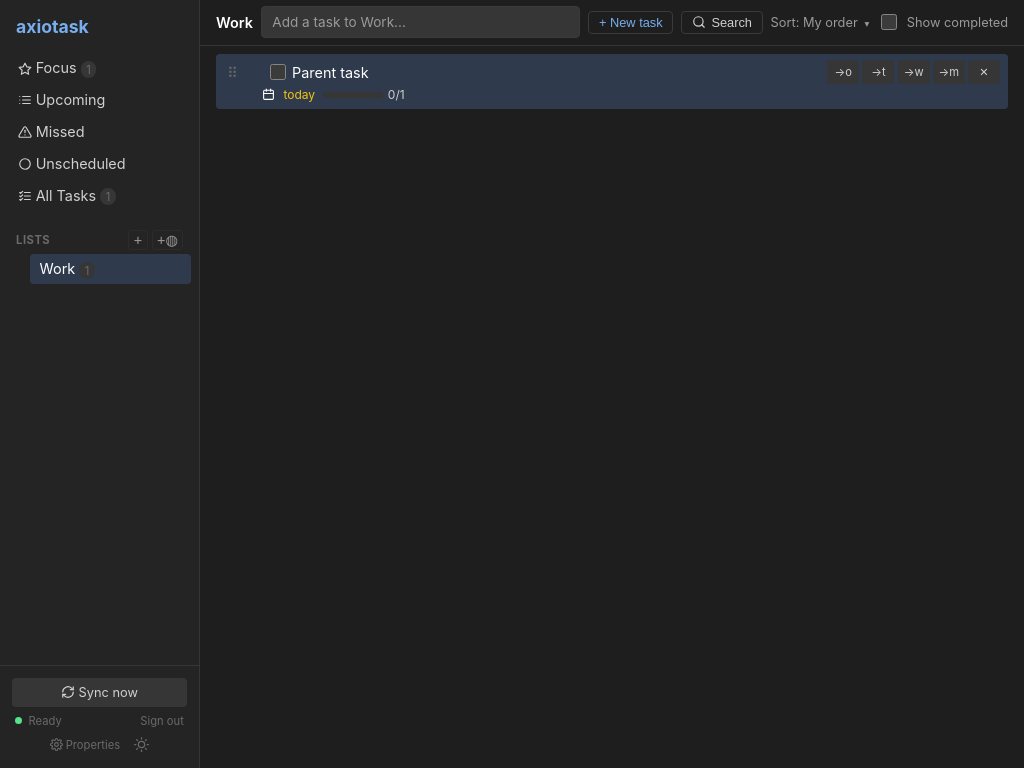
Scenario: GH#11: Complete/uncomplete with undo › Undo toast (10s) › undo of a mid-level subtask completion reopens it and its cascaded children
Click the text "Parent task" at (330, 72), box [292,64,369,81]
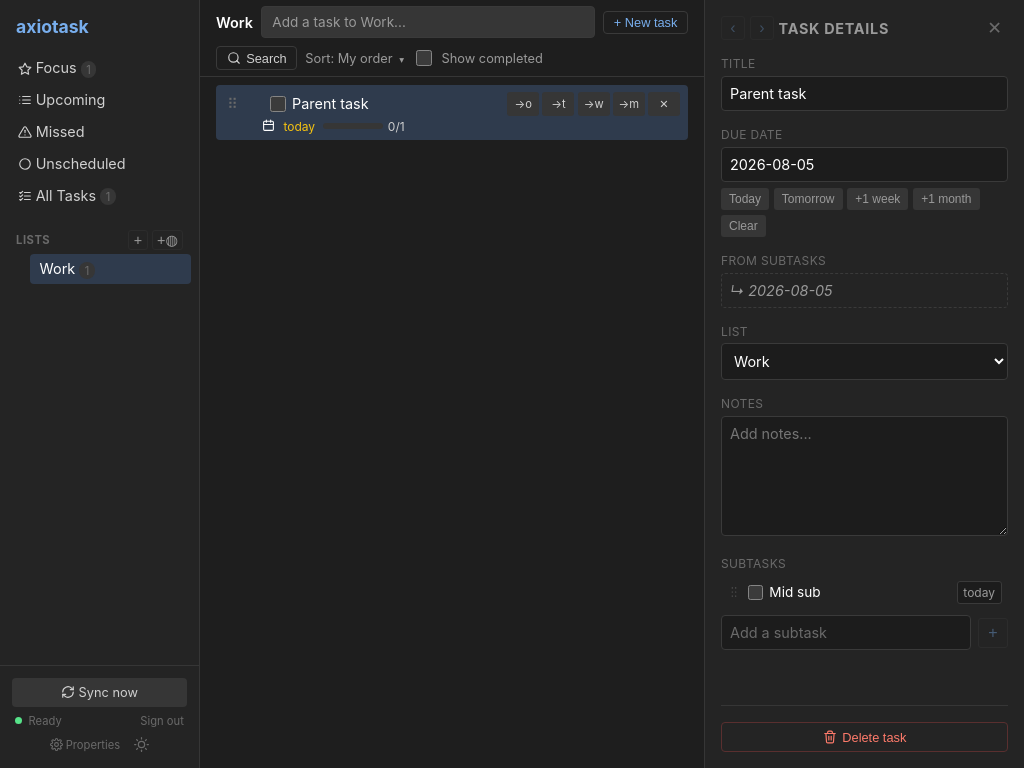
Expected: the text "Subtasks" is shown, [721,556,786,571]
Click the checkbox named "Mark Mid sub complete" at (755, 592), box [748,585,763,600]
Wait 750 ms
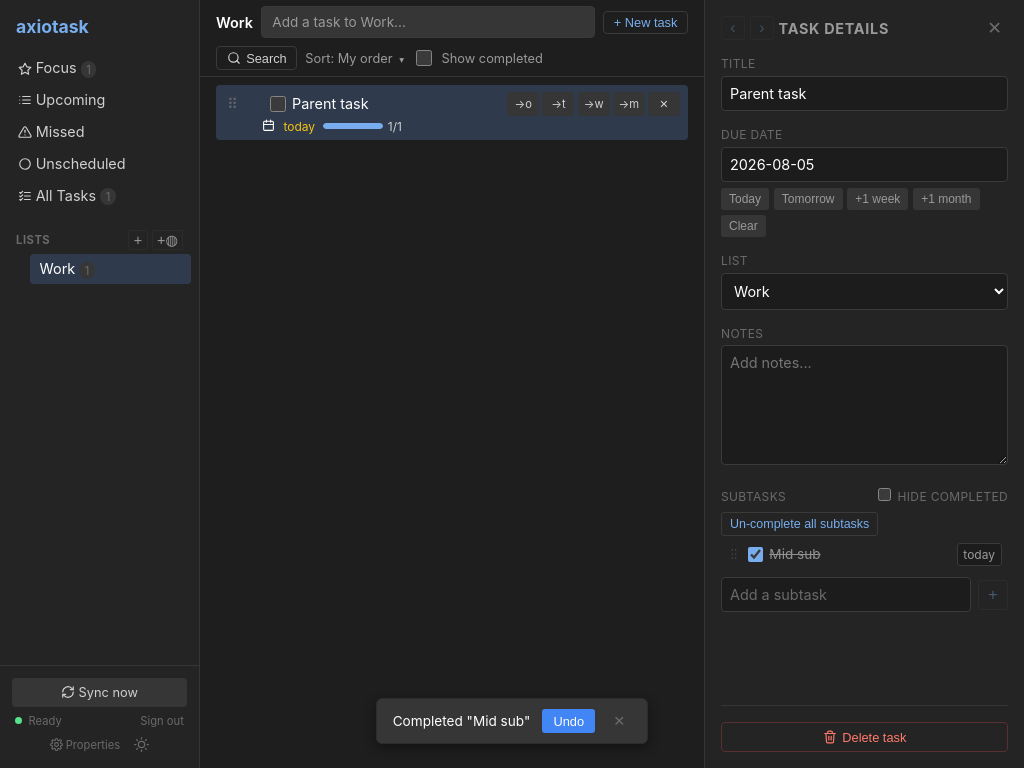
Expected: the button "Undo" is shown
Click the button "Undo" at (569, 721), box [542,709,595,733]
Wait 950 ms
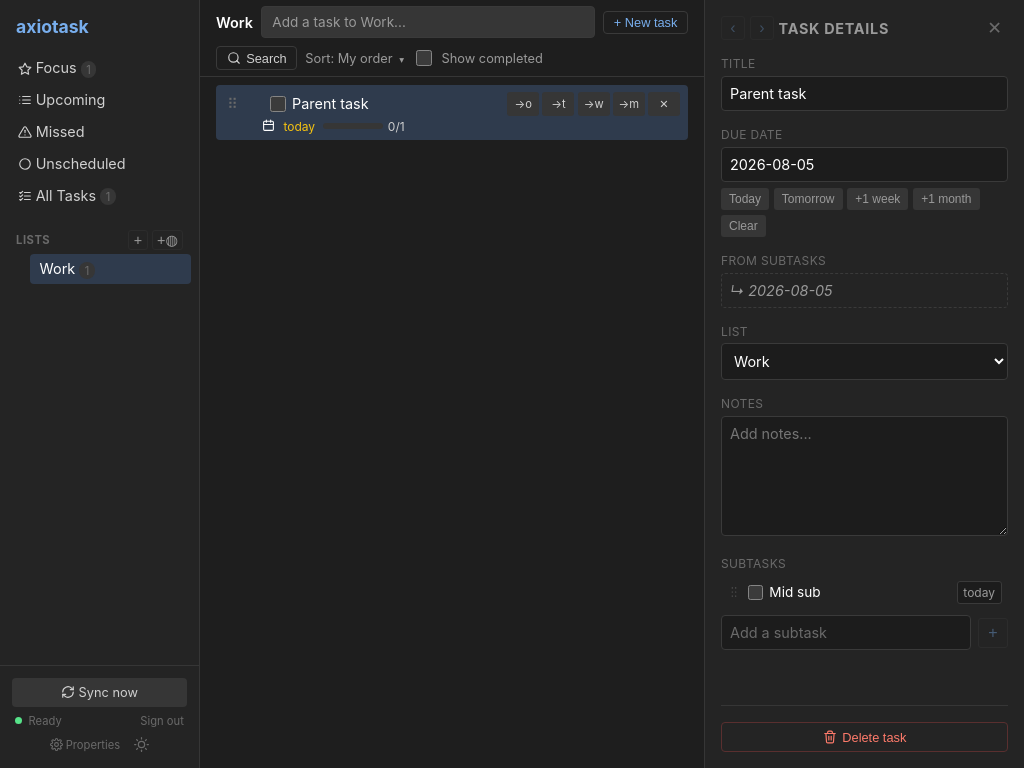
Expected: the checkbox named "Mark Mid sub complete" is shown, [748,585,763,600]
